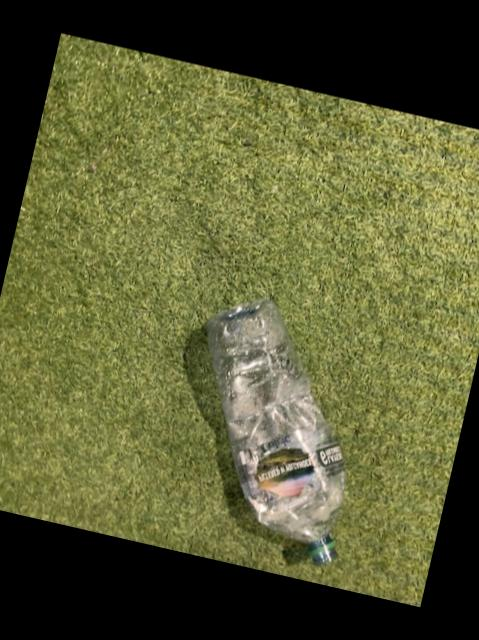plastic: (206, 301, 343, 565)
